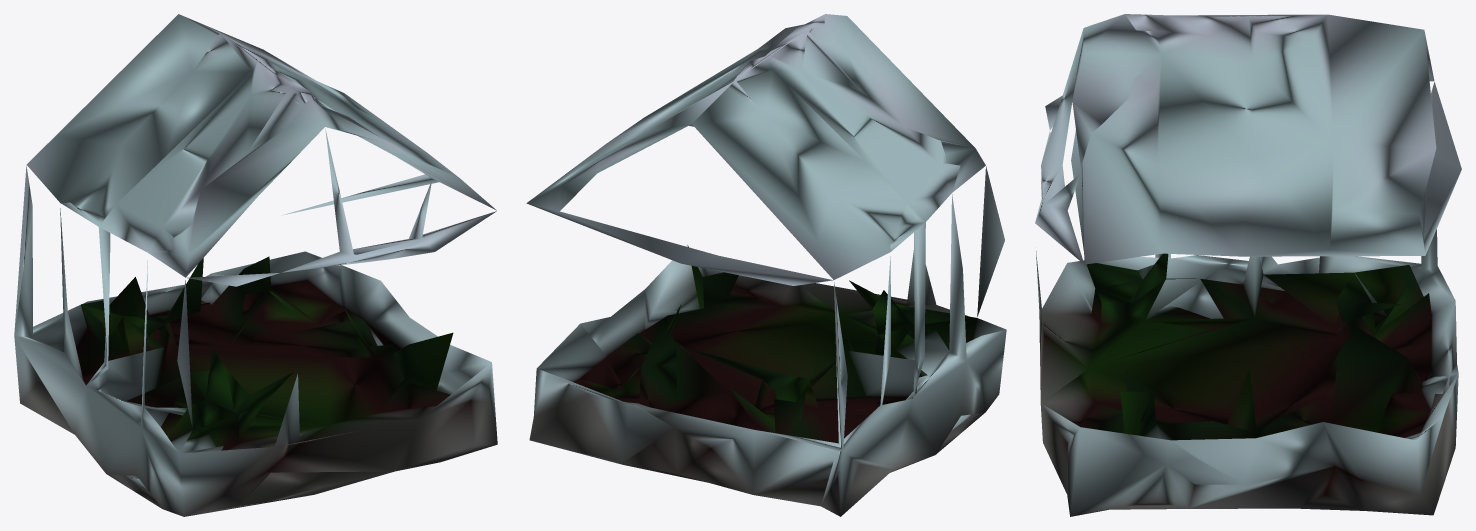
Rendered from gen3d-greenhouse-lod1.glb.
The picture shows the model from 3 angles, left to right: view 1: azimuth 30°, elevation 25°; view 2: azimuth 150°, elevation 25°; view 3: azimuth 270°, elevation 25°; orthographic projection. The views are drawn at different scales.
Parts seen in each view (by area): view 1: part_0; view 2: part_0; view 3: part_0.
Part boxes in pixels (<box>): part_0: <box>14,14,497,516</box>; part_0: <box>526,14,1006,516</box>; part_0: <box>1035,14,1461,516</box>.
Size of the model in its own units: 0.9109 by 0.99 by 0.9162.
